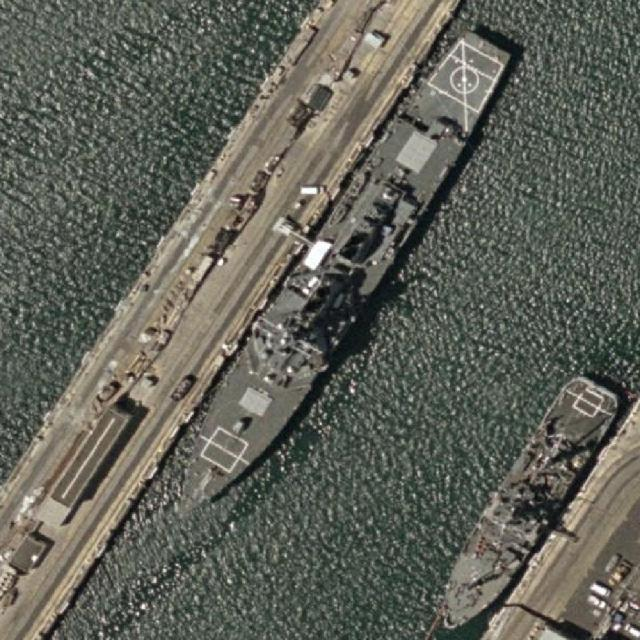Destroyer: (151, 21, 522, 537)
Other Warship: (425, 364, 628, 639)
